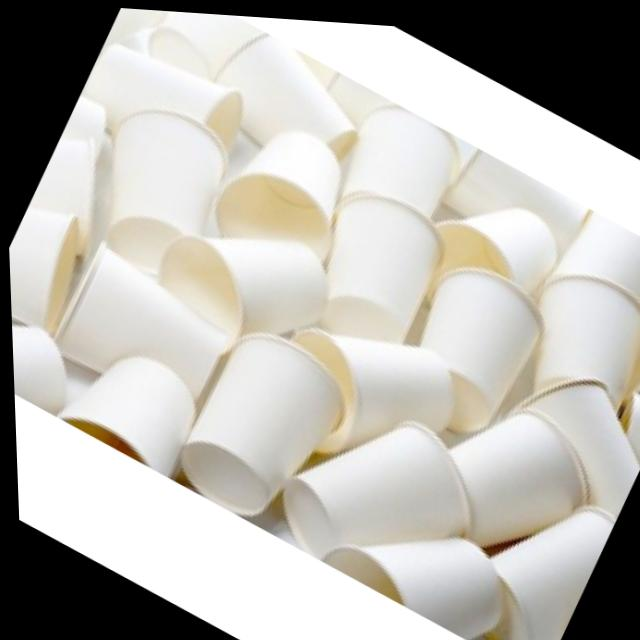paper_cups: (258, 369, 503, 619), (244, 274, 478, 503), (156, 307, 364, 542), (133, 173, 351, 388), (410, 369, 613, 579), (32, 228, 241, 428), (374, 237, 560, 452), (61, 79, 247, 291), (280, 164, 461, 365), (312, 473, 523, 640), (69, 17, 259, 186), (202, 102, 372, 281), (449, 460, 618, 640), (480, 333, 640, 521), (495, 240, 640, 425), (6, 194, 103, 345)
